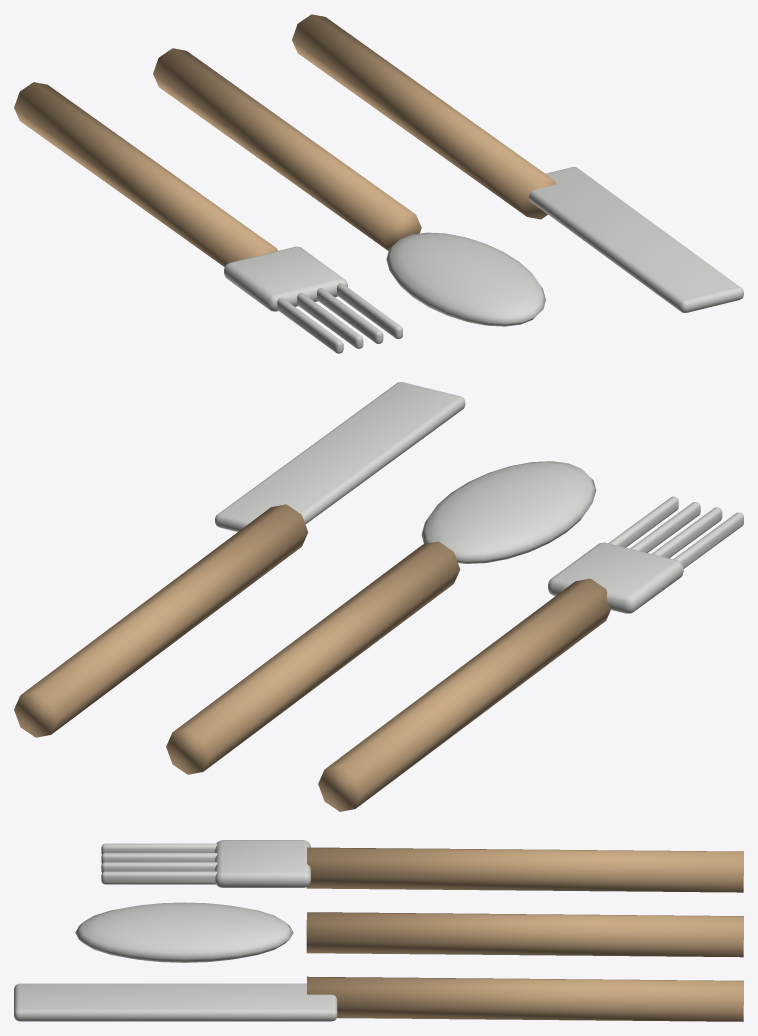
File: cutlery.glb
3 views of the same model, one above another, from view 1: azimuth 30°, elevation 25°; view 2: azimuth 150°, elevation 25°; view 3: azimuth 270°, elevation 25° (orthographic). The views are drawn at different scales.
Parts seen in each view (by area): view 1: cutlery__body, cutlery__accent; view 2: cutlery__body, cutlery__accent; view 3: cutlery__body, cutlery__accent.
Part boxes in pixels (box(x1,y1,x2,y2)): cutlery__body: box(14, 14, 556, 266); cutlery__accent: box(224, 167, 743, 353); cutlery__body: box(14, 504, 610, 811); cutlery__accent: box(215, 382, 743, 613); cutlery__body: box(306, 847, 743, 1021); cutlery__accent: box(14, 840, 337, 1021).
Size of the model in its own units: 0.093 by 0.011 by 0.1671.
